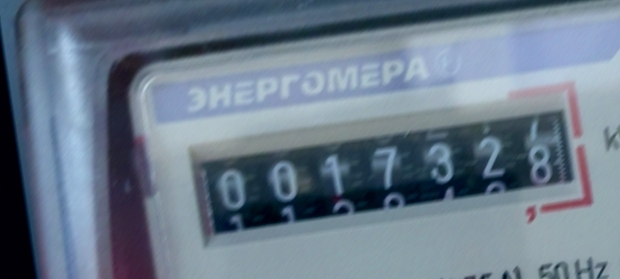0: (212, 166, 251, 214), (266, 156, 301, 205)
1: (319, 150, 347, 199)
2: (471, 133, 507, 182)
3: (423, 140, 456, 187)
7: (369, 144, 402, 194)
8: (522, 142, 553, 188)
screen: (176, 82, 601, 268)
